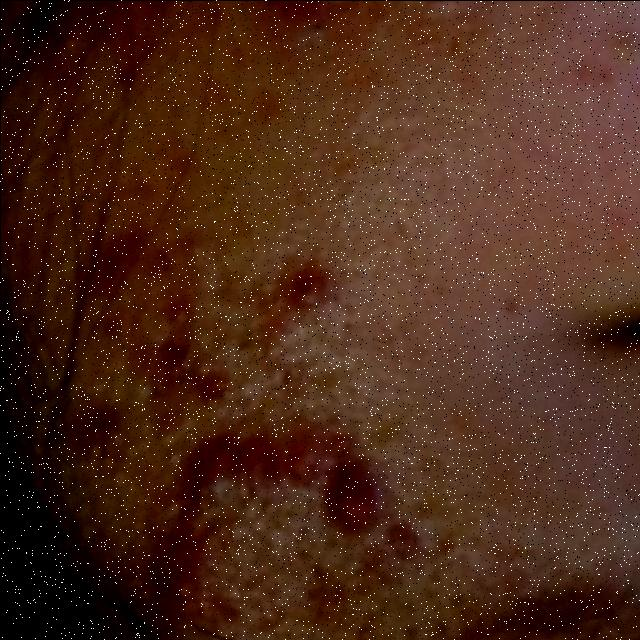nodules: (159, 416, 417, 546), (141, 295, 229, 407), (264, 252, 348, 334), (58, 392, 136, 472)
